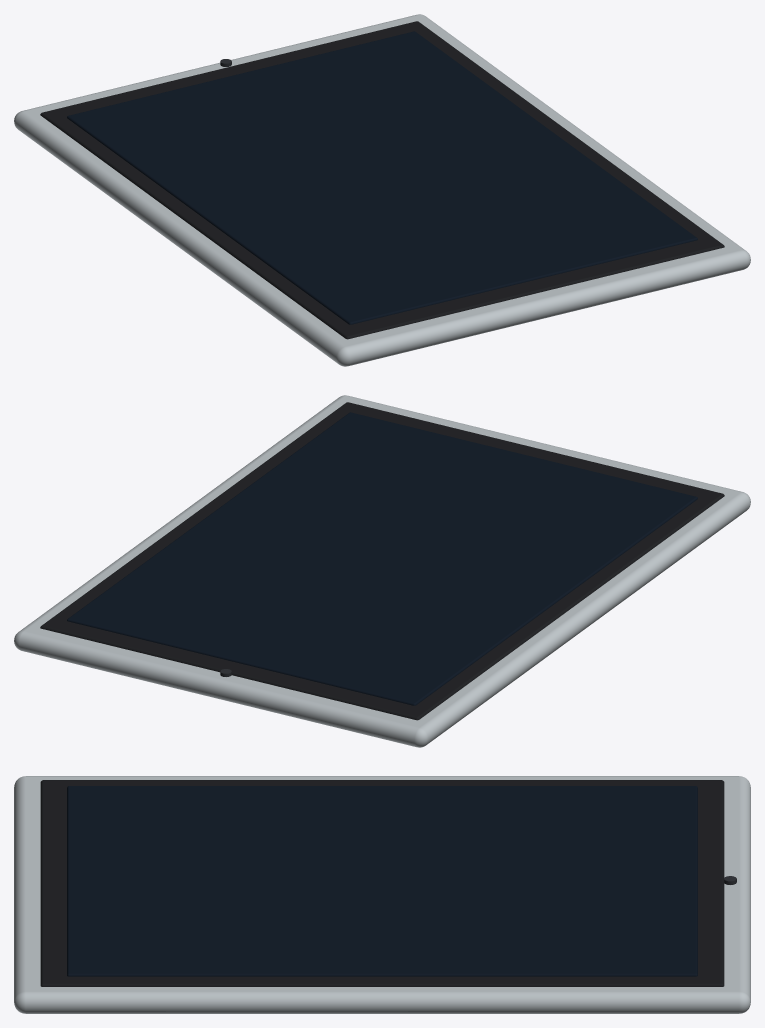
File: tablet.glb
3 views of the same model, one above another, from view 1: azimuth 30°, elevation 25°; view 2: azimuth 150°, elevation 25°; view 3: azimuth 270°, elevation 25° (orthographic). The views are drawn at different scales.
Parts seen in each view (by area): view 1: screen, steel, blackPlastic; view 2: screen, steel, blackPlastic; view 3: screen, steel, blackPlastic.
Part boxes in pixels (bbox=[...]): screen: bbox=[67, 31, 697, 324]; steel: bbox=[14, 14, 750, 366]; blackPlastic: bbox=[40, 21, 724, 339]; screen: bbox=[67, 412, 697, 705]; steel: bbox=[14, 395, 750, 747]; blackPlastic: bbox=[40, 402, 724, 720]; screen: bbox=[67, 786, 697, 976]; steel: bbox=[14, 776, 750, 1013]; blackPlastic: bbox=[40, 780, 724, 986].
Size of the model in its own units: 0.18 by 0.0112 by 0.25.
